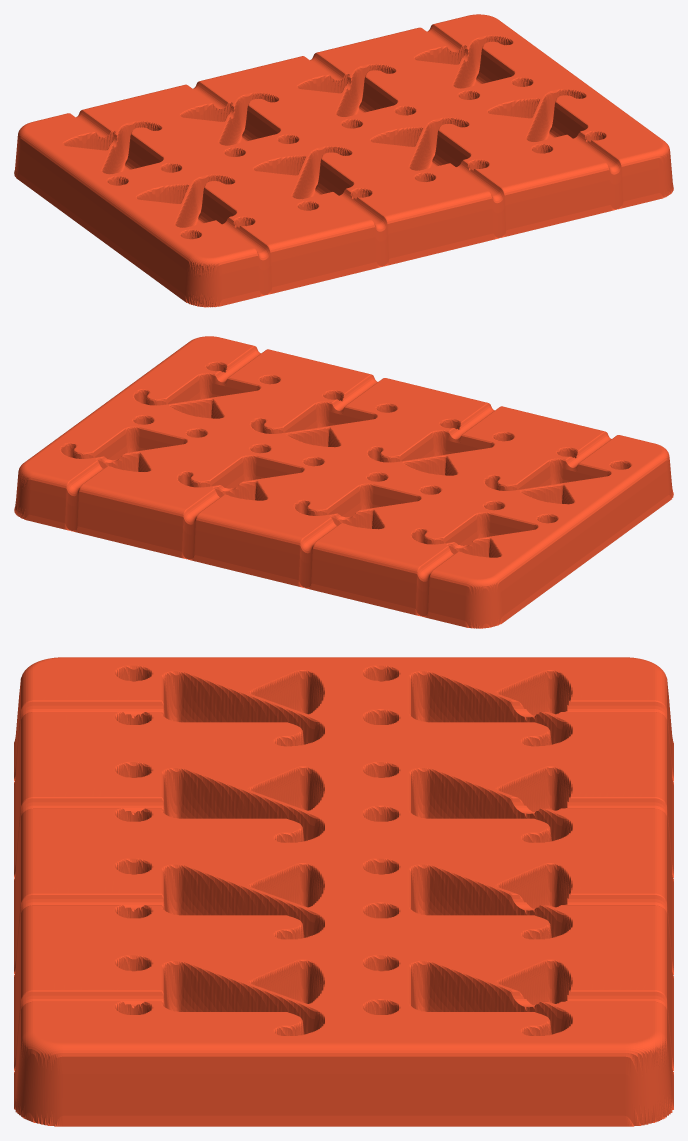
Rendered from mold.glb.
The picture shows the model from 3 angles, top to bottom: view 1: azimuth 30°, elevation 25°; view 2: azimuth 150°, elevation 25°; view 3: azimuth 270°, elevation 25°; orthographic projection. The views are drawn at different scales.
Visible parts, largest first — view 1: geometry_0; view 2: geometry_0; view 3: geometry_0.
Part boxes in pixels (x1,y1,x2,y2): geometry_0: (14, 14, 673, 307); geometry_0: (14, 336, 673, 628); geometry_0: (14, 657, 673, 1126).
Size of the model in its own units: 0.1766 by 0.0155 by 0.1229.
